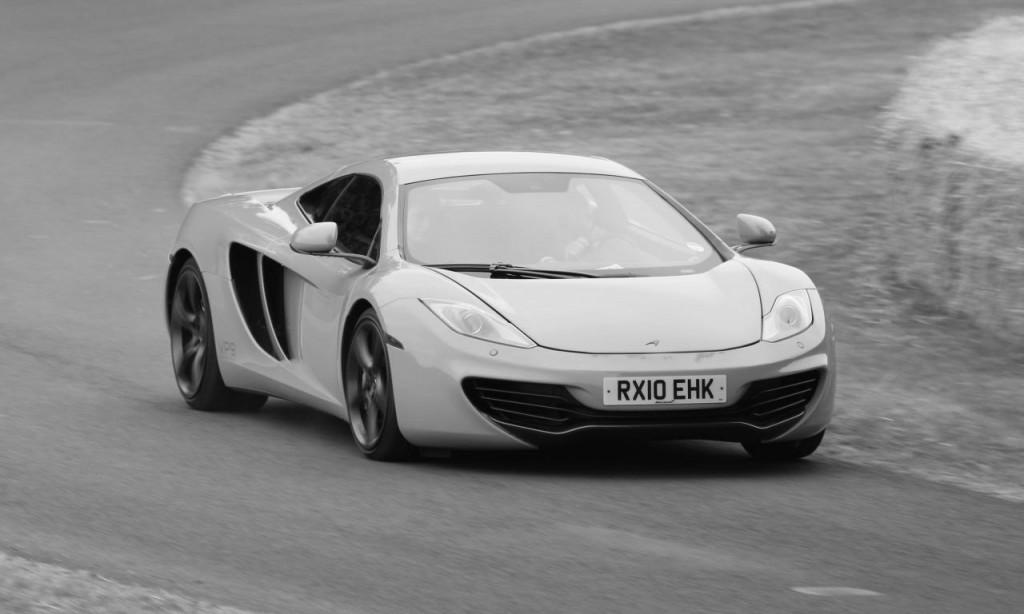car: (165, 153, 836, 463)
